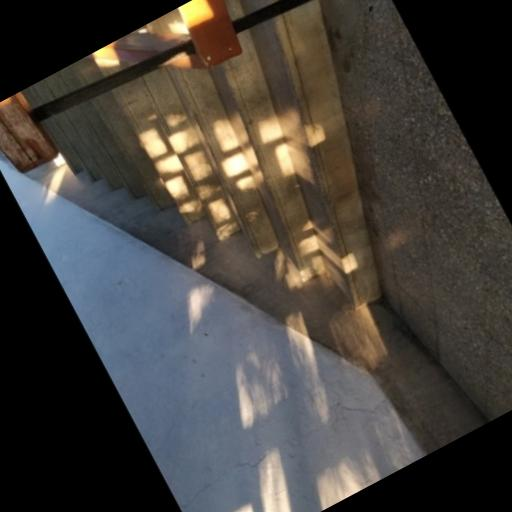stairs: (43, 0, 381, 307)
